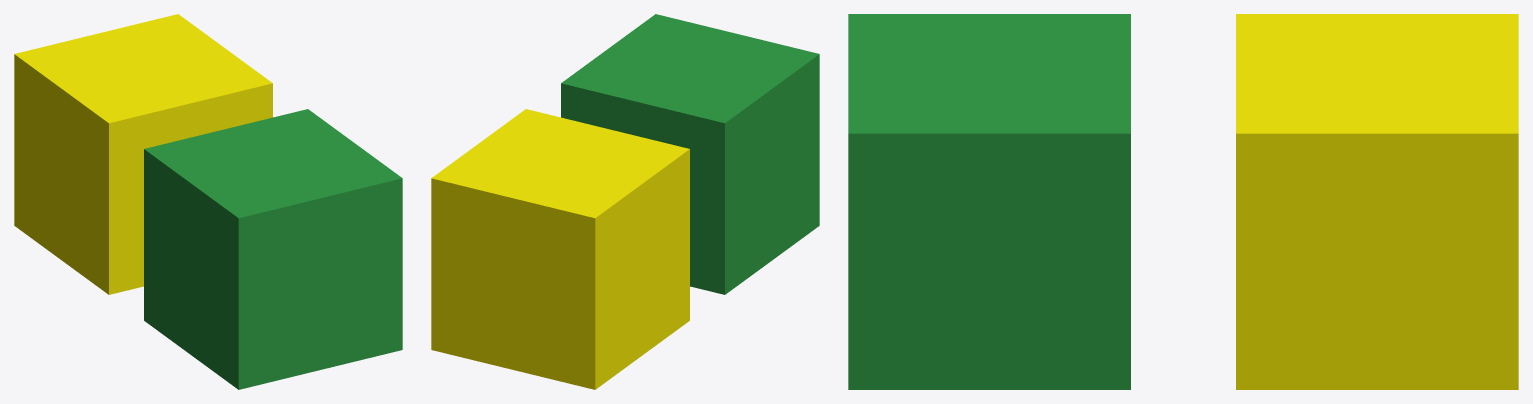
The model's file is undep2.fbx.
3 renders of one model, left to right at view 1: azimuth 30°, elevation 25°; view 2: azimuth 150°, elevation 25°; view 3: azimuth 270°, elevation 25°, orthographic. The views are drawn at different scales.
Parts seen in each view (by area): view 1: Cube, Cube.001; view 2: Cube.001, Cube; view 3: Cube, Cube.001.
Boxes of the visible parts, <box> form: Cube: <box>144,109,402,389</box>; Cube.001: <box>14,14,272,294</box>; Cube.001: <box>431,109,689,389</box>; Cube: <box>561,14,819,294</box>; Cube: <box>848,14,1130,389</box>; Cube.001: <box>1236,14,1518,389</box>.
Bounding box in the file's own units: 200 × 200 × 474.
